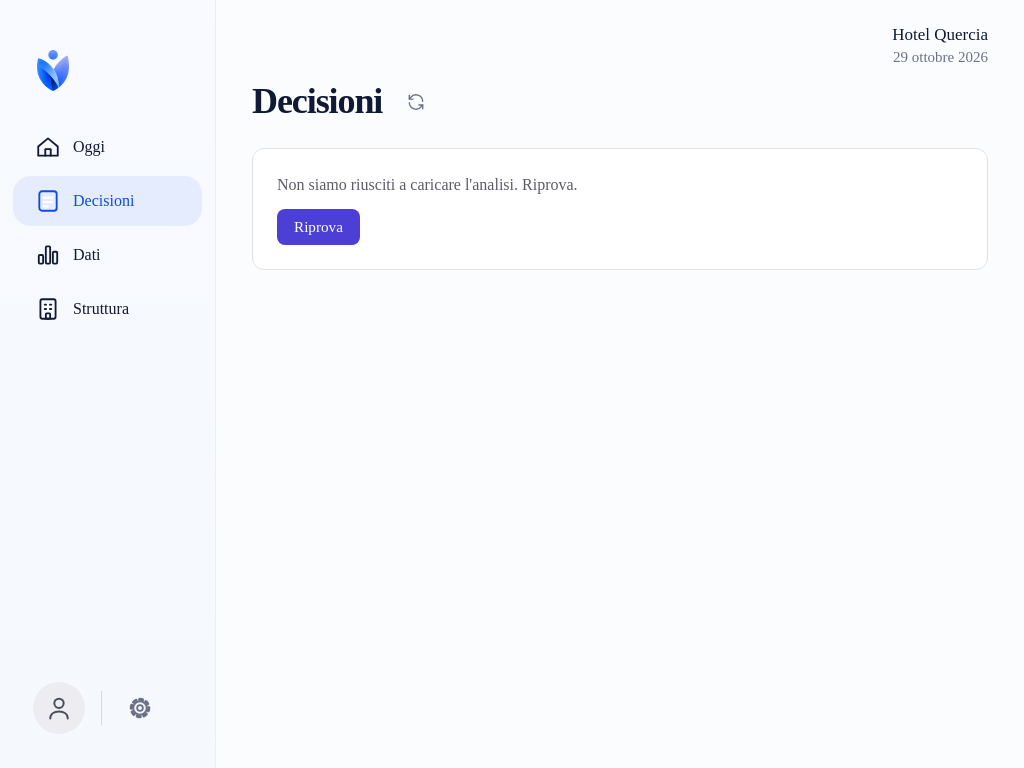
Test: /decisioni - loading, error, refresh, properties › shows the existing error copy with a retry that repeats the same GET
This screenshot has width=1024, height=768.
Expected: the message shows "Non siamo riusciti a caricare l'analisi. Riprova.", [277,176,578,193]
Click the button "Riprova": point(318, 227) [277,209,360,245]
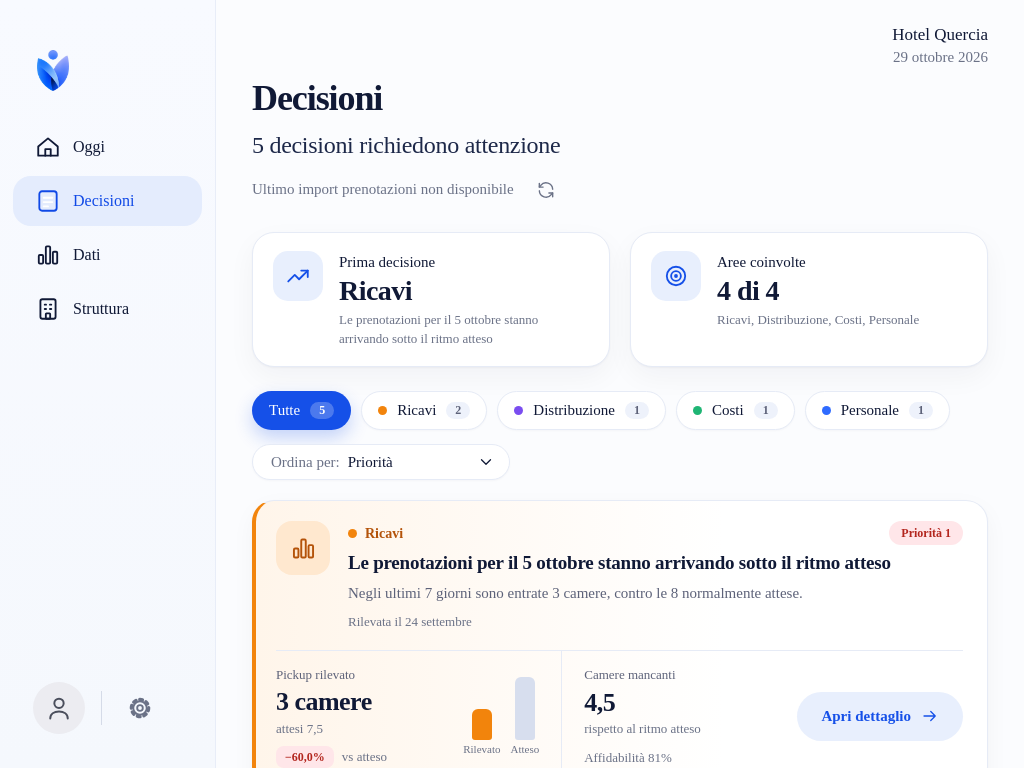
Expected: the number of links named "Apri dettaglio: " is 5
